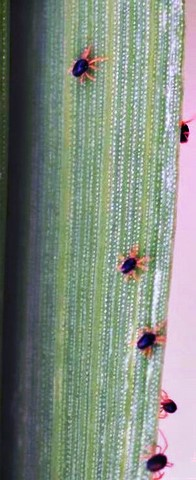Wheat Red Spider: (62, 42, 109, 90)
